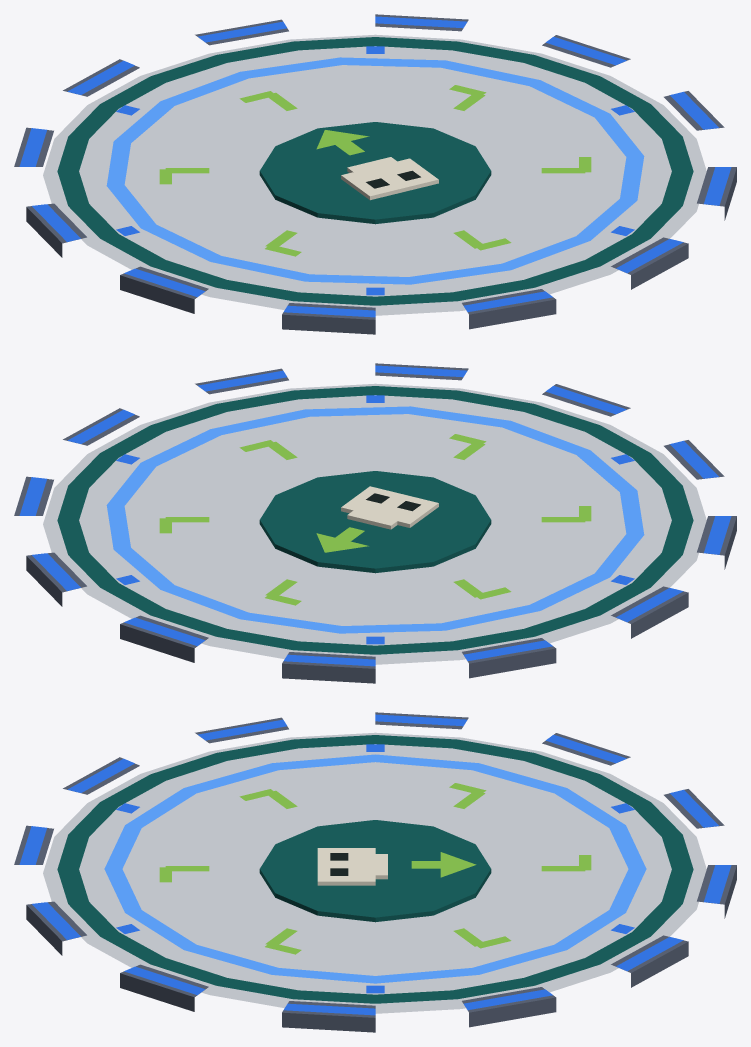
File: weakener_super_rare_area.glb
3 renders of one model, top to bottom at view 1: azimuth 30°, elevation 25°; view 2: azimuth 150°, elevation 25°; view 3: azimuth 270°, elevation 25°, orthographic.
Visible parts, largest first — view 1: weakener_super_rare_area; view 2: weakener_super_rare_area; view 3: weakener_super_rare_area.
Boxes of the visible parts, <box> form: weakener_super_rare_area: <box>14,14,736,334</box>; weakener_super_rare_area: <box>14,363,736,683</box>; weakener_super_rare_area: <box>14,712,736,1032</box>.
Bounding box in the file's own units: 2 × 0.047 × 2.
Materials: 2 (2 with a texture image).
